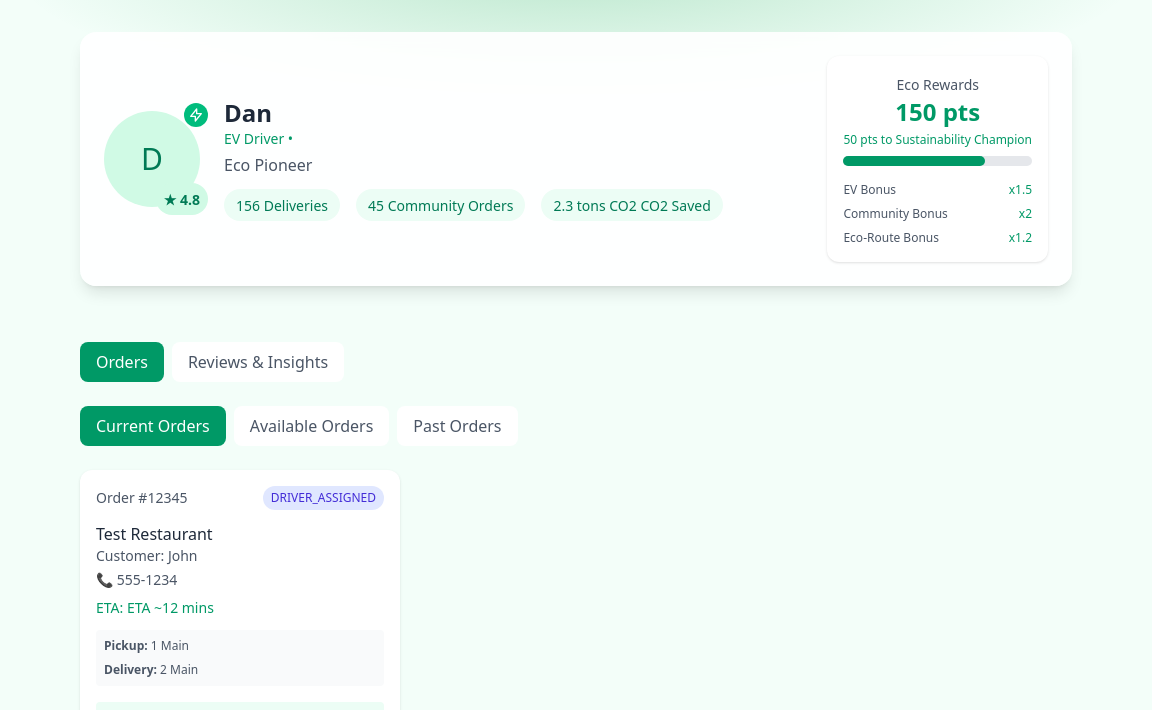
Test: Drivers › successfully retrieves and displays driver location with coordinates
Click the button "Current Orders" at coordinates (153, 426), box [80, 406, 226, 446]
(page scrolled)
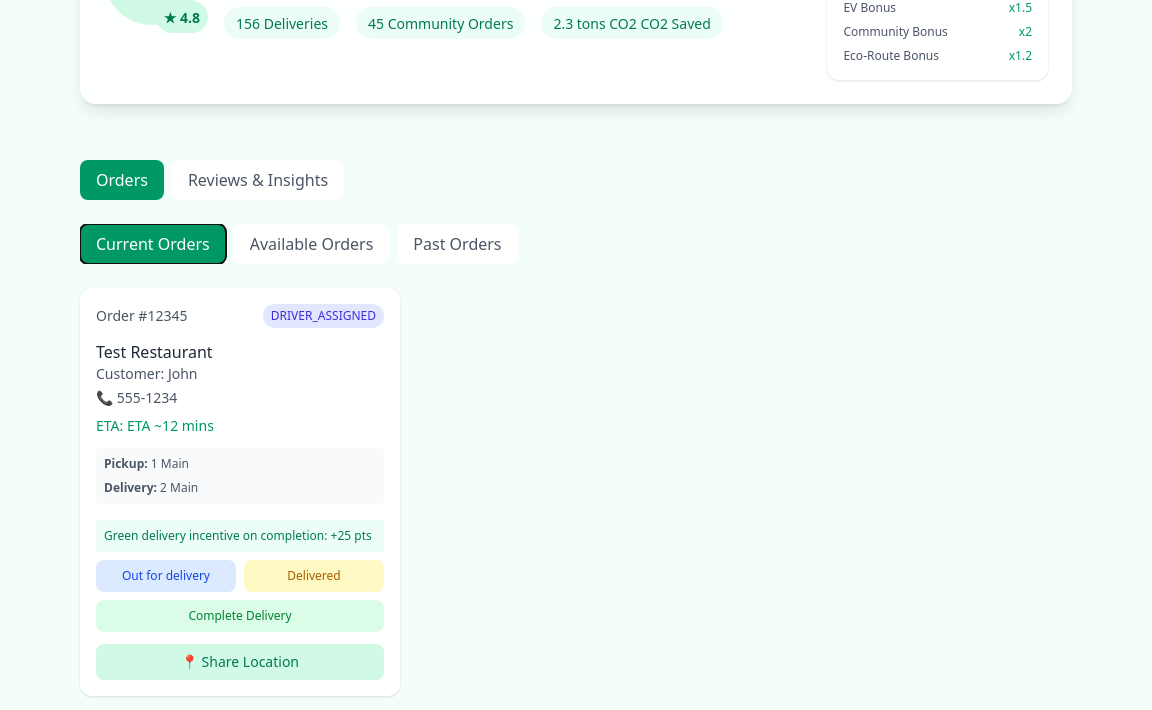
Click the button "📍 Share Location" at coordinates (240, 662), box [96, 644, 384, 680]
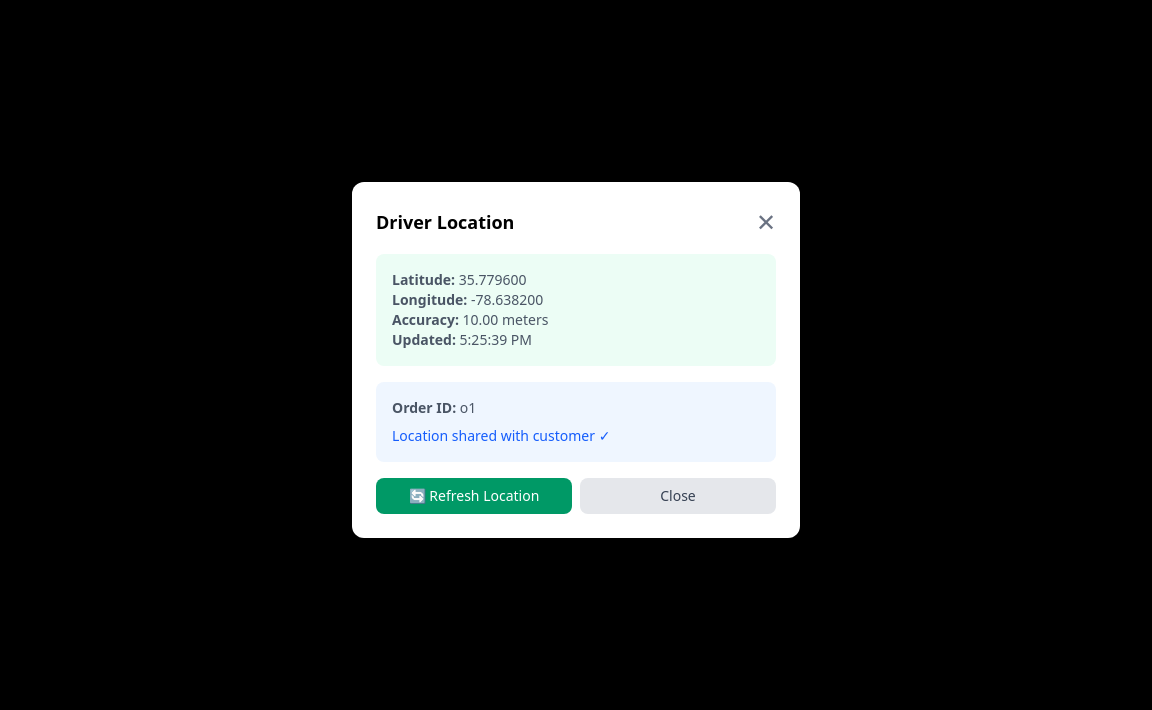
Expected: the heading "Driver Location" is shown, [376, 208, 514, 236]
Expected: the text "Latitude: 35.779600" is shown, [392, 270, 527, 289]
Expected: the text "Longitude: -78.638200" is shown, [392, 290, 543, 309]
